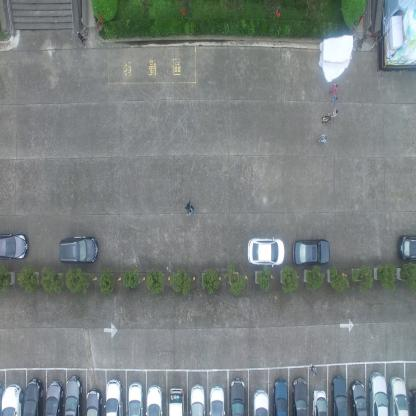car: (247, 237, 285, 267), (292, 237, 331, 266), (58, 236, 98, 264), (389, 372, 409, 416), (369, 370, 388, 415), (0, 232, 29, 261), (23, 375, 44, 415), (0, 381, 22, 415), (65, 374, 83, 415), (105, 378, 124, 415), (291, 375, 308, 415), (228, 375, 245, 415), (331, 373, 347, 415), (44, 380, 63, 415), (350, 377, 367, 415), (272, 377, 288, 415), (127, 380, 144, 415), (398, 232, 416, 265), (146, 383, 164, 415), (209, 384, 226, 416), (251, 388, 270, 415), (190, 381, 205, 415), (168, 385, 184, 415), (312, 386, 328, 415), (86, 389, 102, 415), (408, 386, 416, 415)
